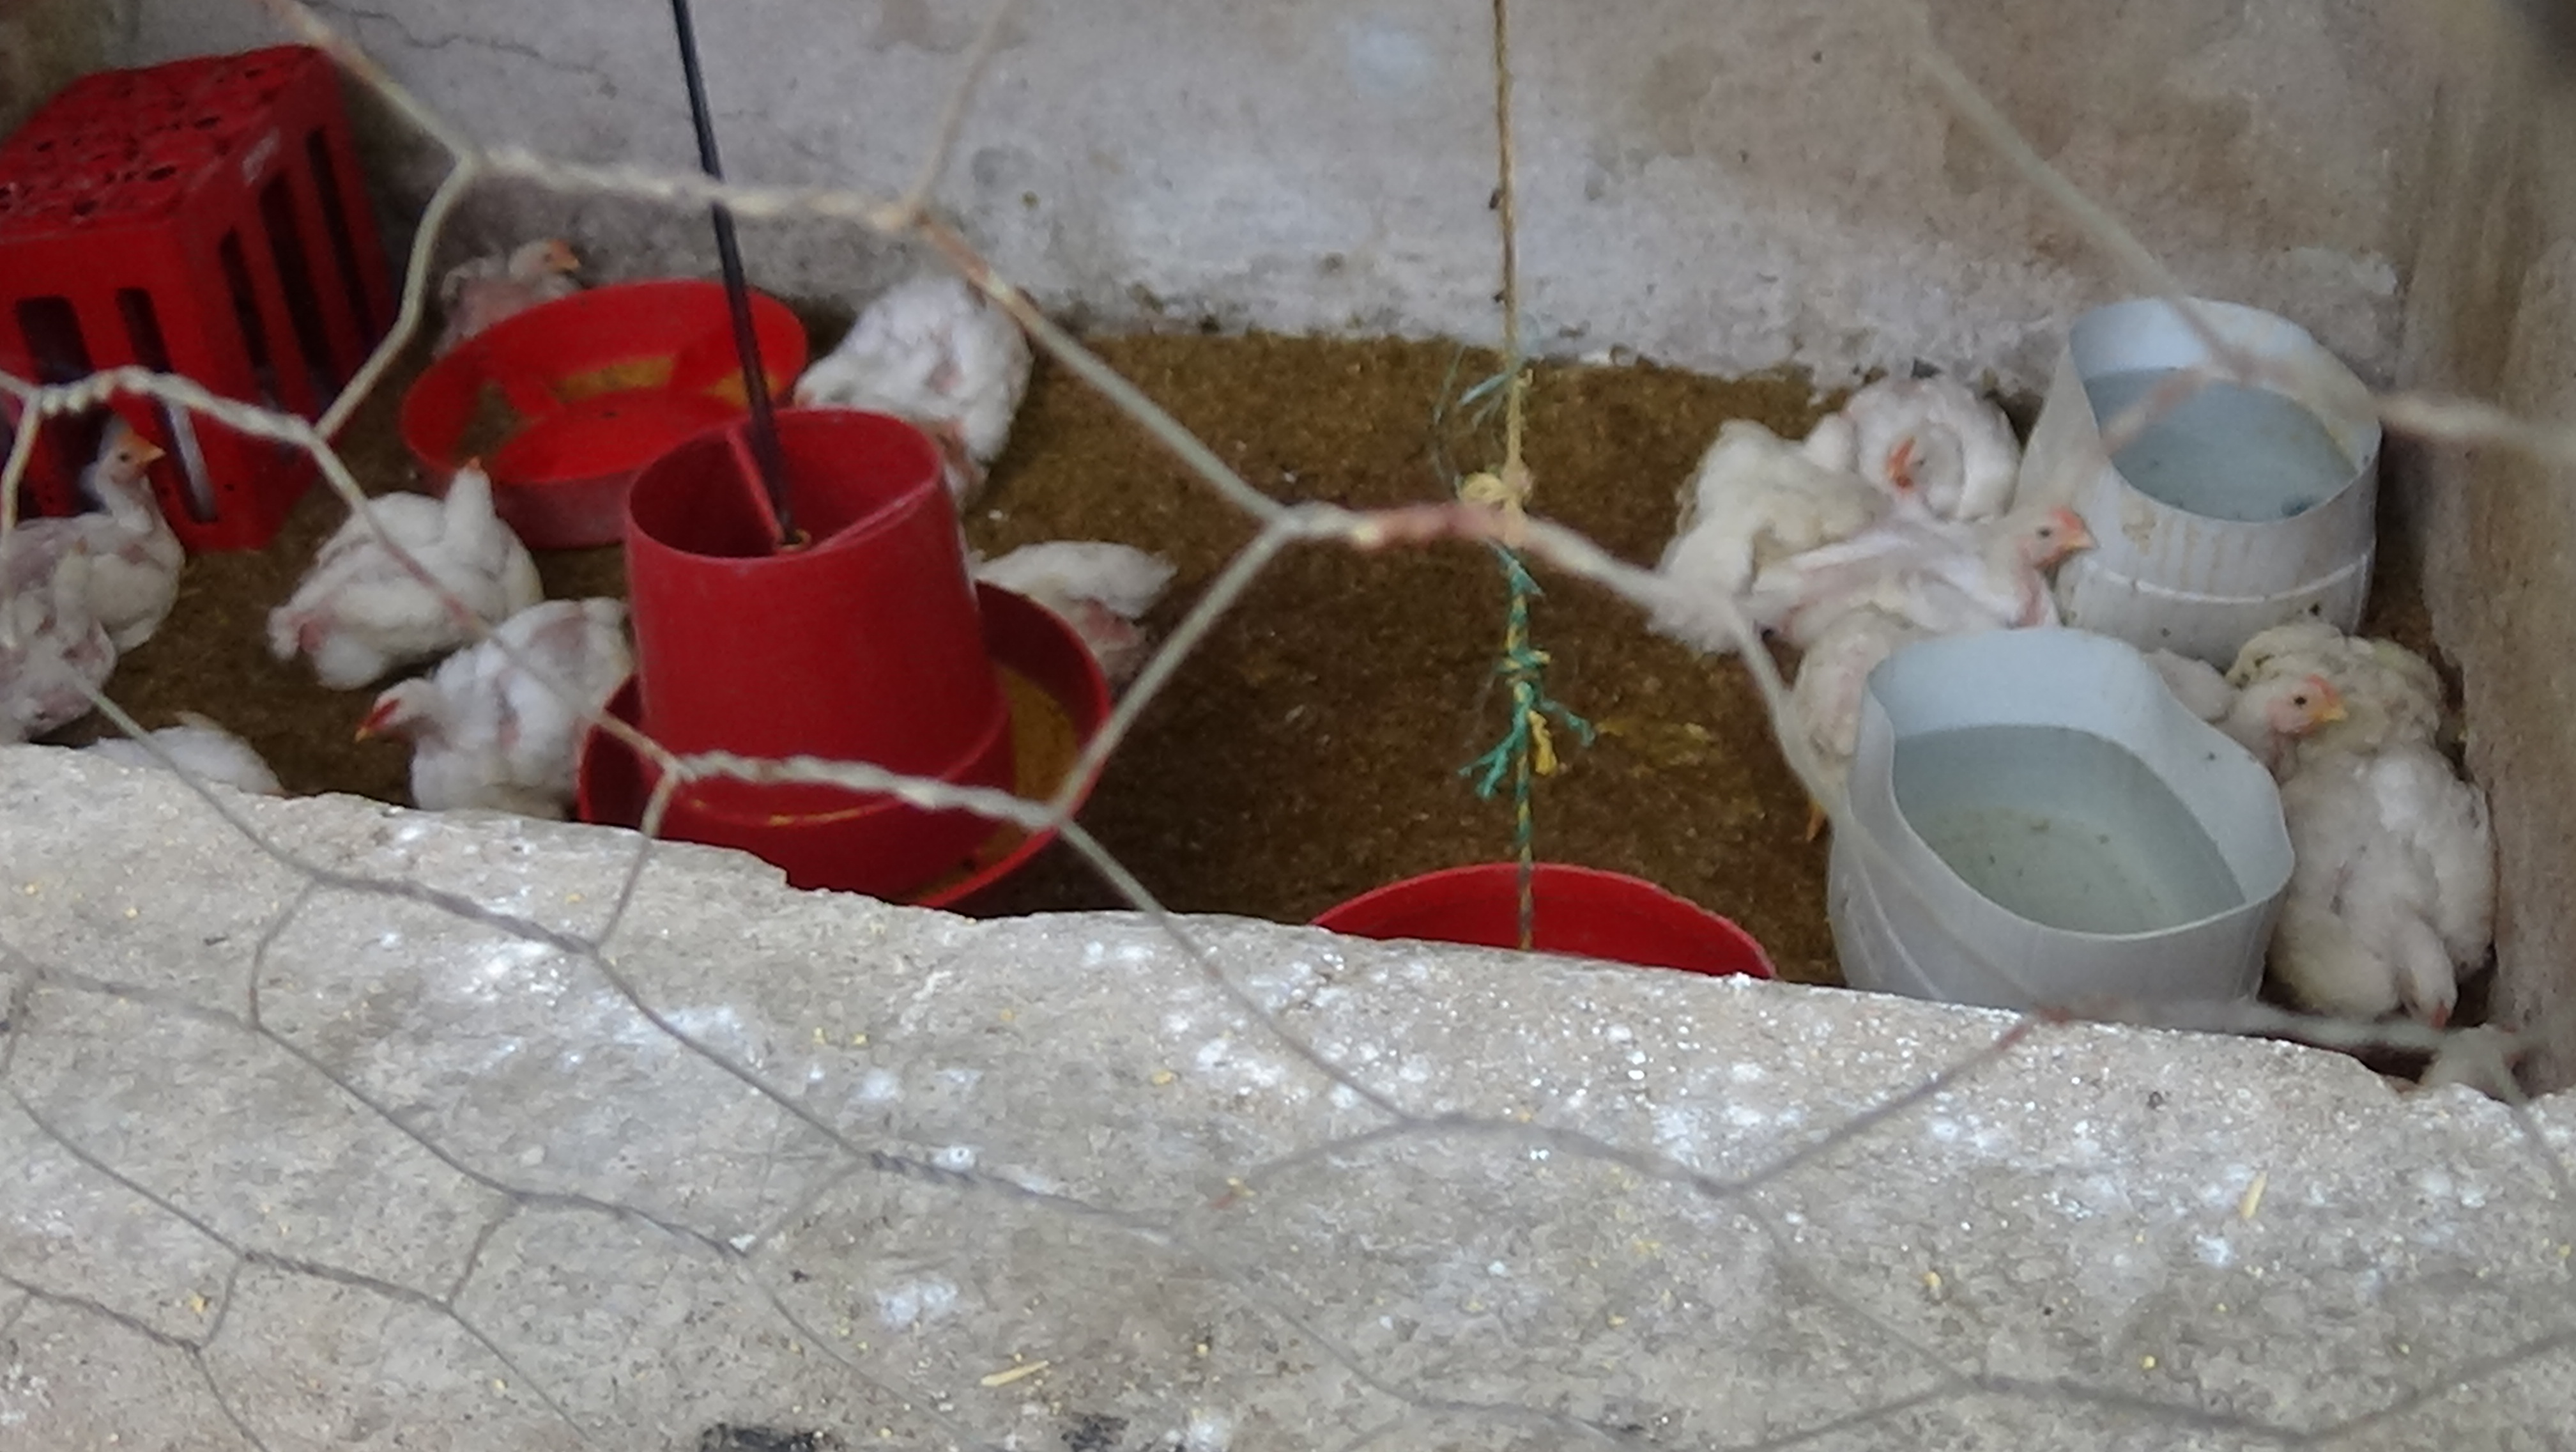Pollos: (778, 179, 1063, 494), (350, 593, 658, 871), (2272, 730, 2549, 1031), (232, 444, 559, 639), (938, 510, 1224, 669), (60, 388, 193, 650), (403, 202, 593, 368), (1847, 349, 2036, 501), (1923, 487, 2105, 604), (2189, 673, 2337, 749)
